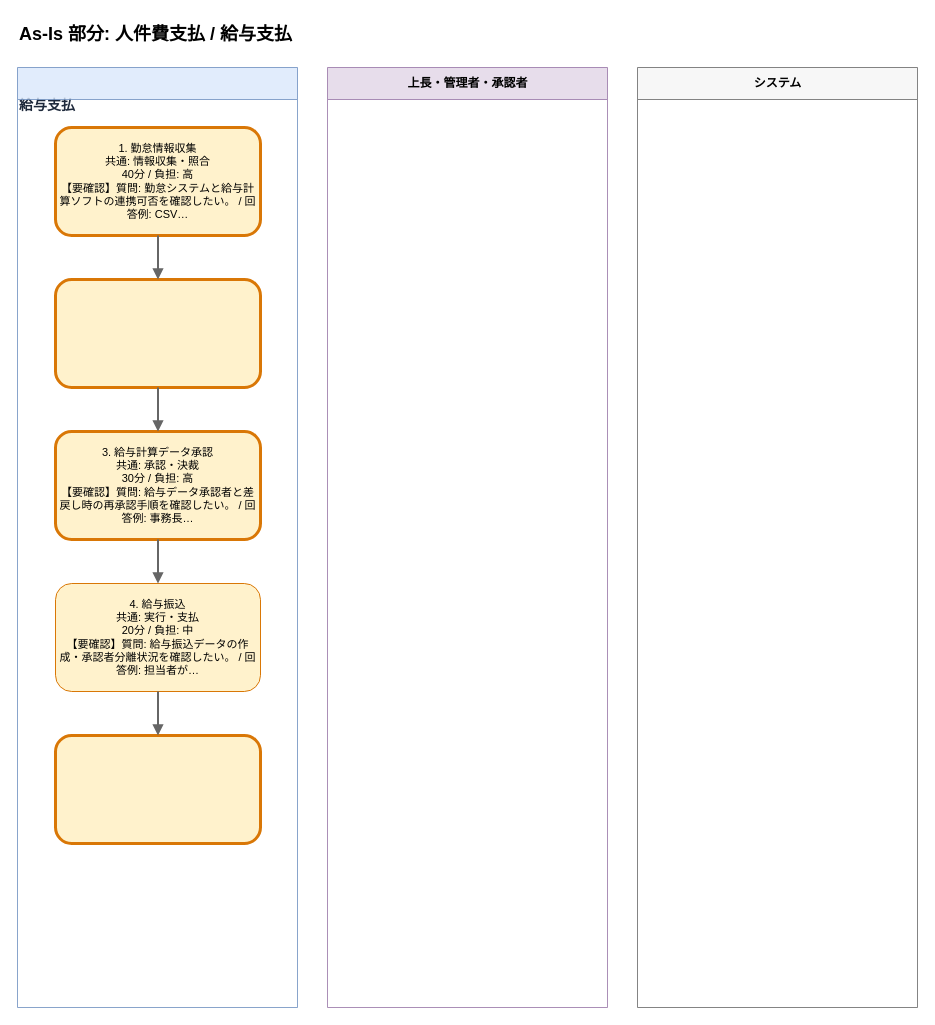
Image size: 935x1025. Some labels were removed from this diagram. The box of each missing label's shape, as (x1, y1, x2, y2) in pixels:
2. 給与計算入力 共通: システム入力 60分 / 負担: 高 【要確認】質問: 給与計算ソフトへのCSV取込可否を確認したい。 / 回答例: CSVで出力…: (54, 278, 262, 388)
5. 給与仕訳入力 共通: システム入力 20分 / 負担: 高 【要確認】質問: 給与計算ソフトから会計システムへ仕訳連携できるか確認したい。 / 回答例:…: (54, 734, 262, 844)
担当者・業務部門: (16, 66, 298, 1008)
